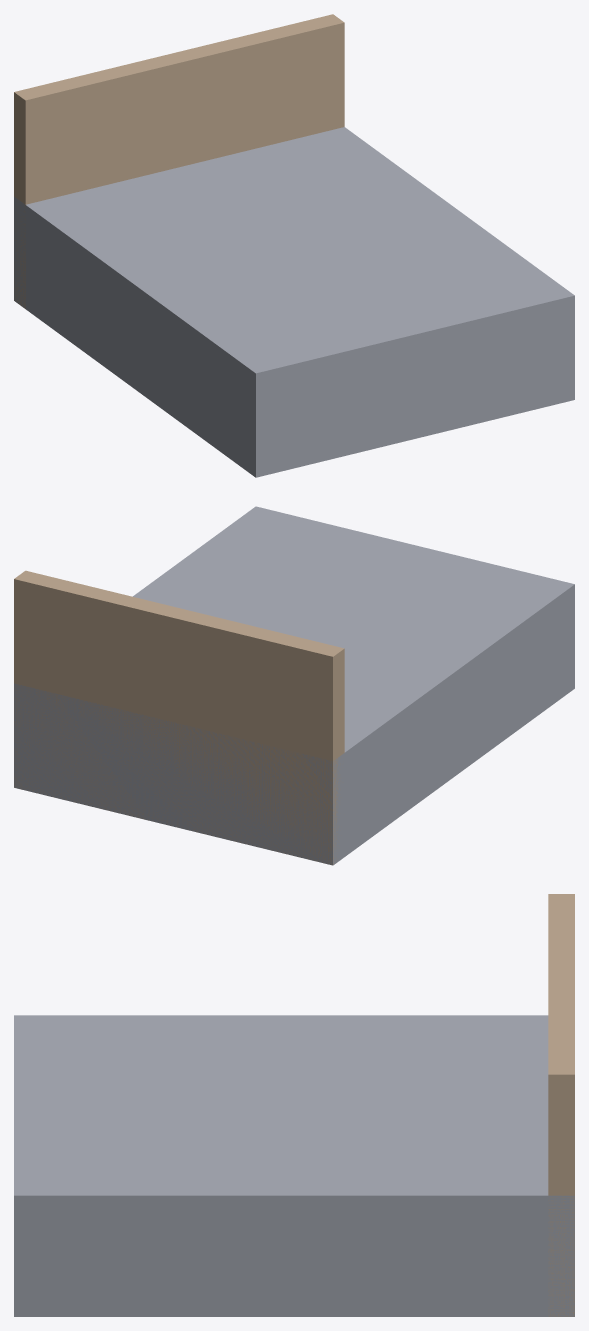
File: bed_double.glb
The picture shows the model from 3 angles, top to bottom: view 1: azimuth 30°, elevation 25°; view 2: azimuth 150°, elevation 25°; view 3: azimuth 270°, elevation 25°; orthographic projection. The views are drawn at different scales.
Parts seen in each view (by area): view 1: bed_double; view 2: bed_double; view 3: bed_double.
Part boxes in pixels (box(x1,y1,x2,y2)): bed_double: box(14, 14, 574, 477); bed_double: box(14, 506, 574, 865); bed_double: box(14, 894, 574, 1316).
Size of what is drawn, in the model's own units: 1.6 by 1 by 2.1.
